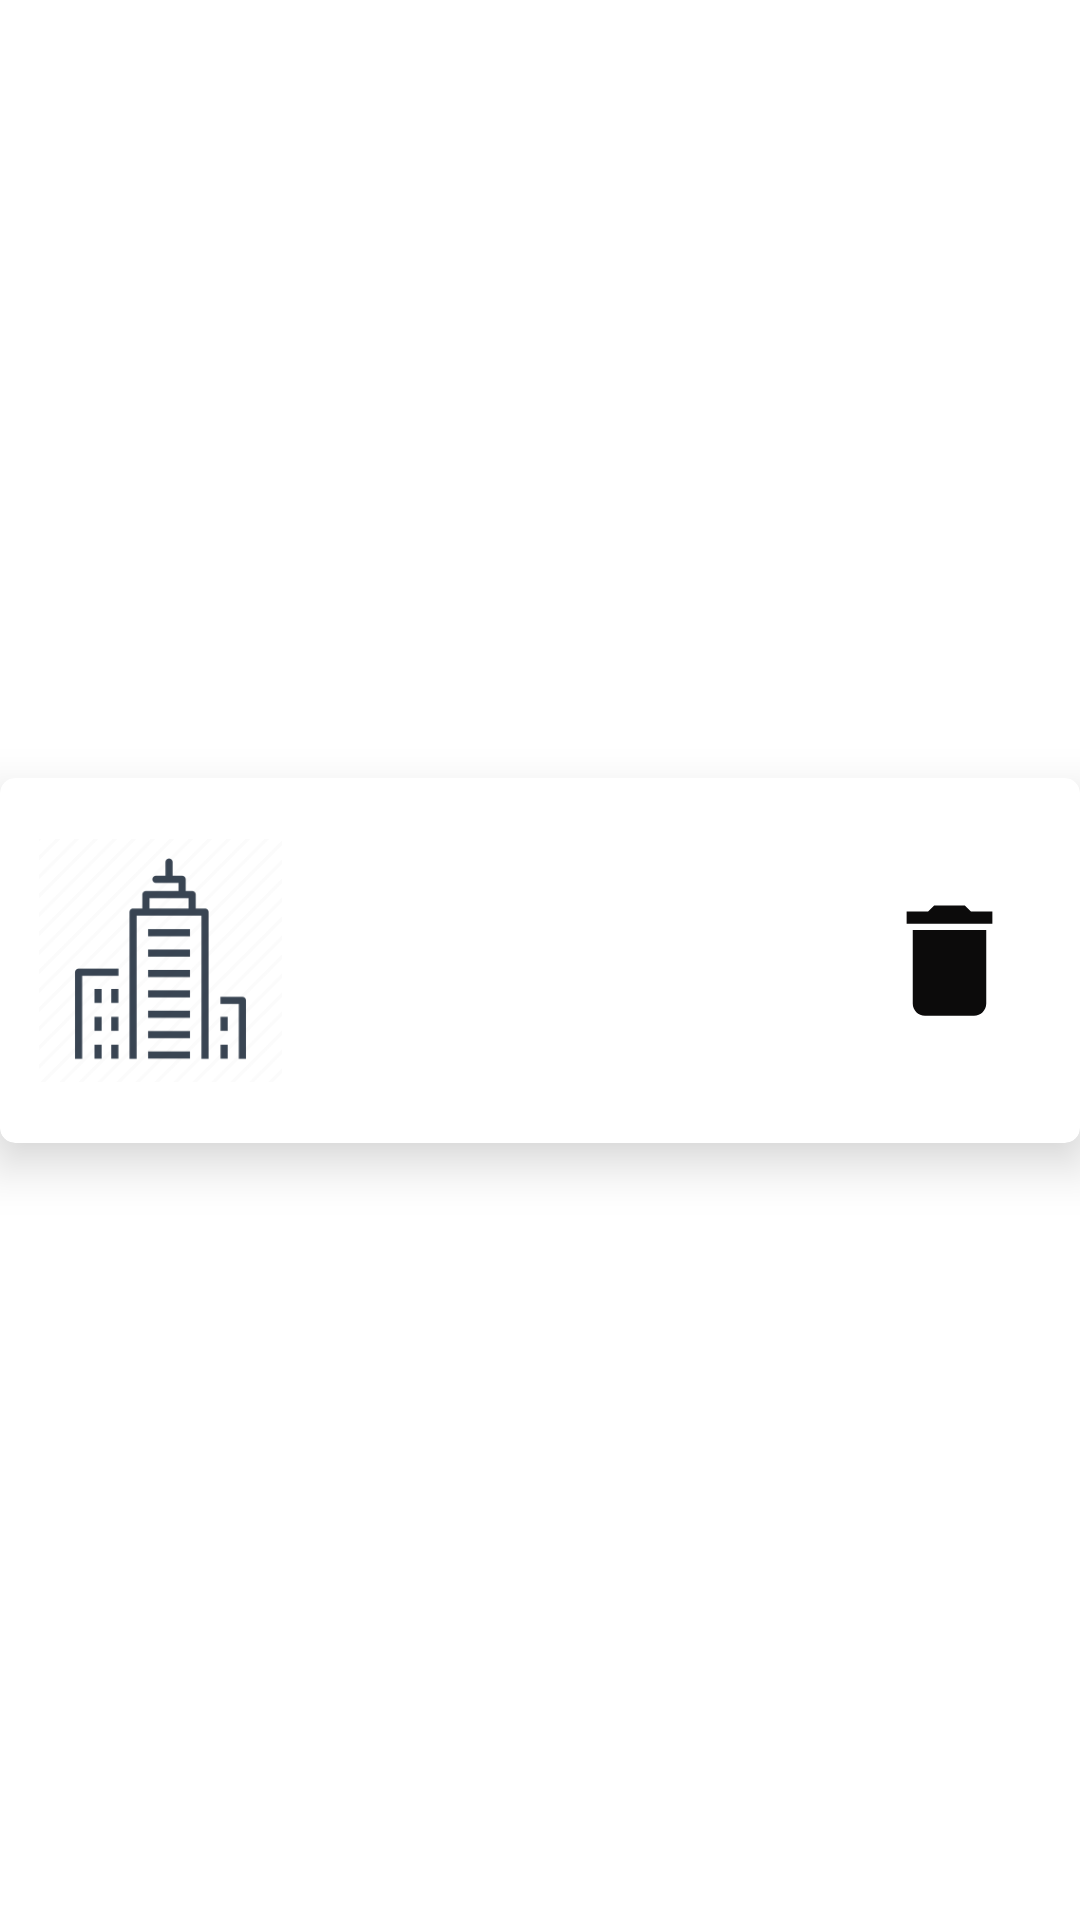

Icon bounding boxes for this 1080x1920 phone screenshot, format (x1, y1, x2, y2):
company: (75, 858, 246, 1059)
delete: (906, 905, 993, 1016)
